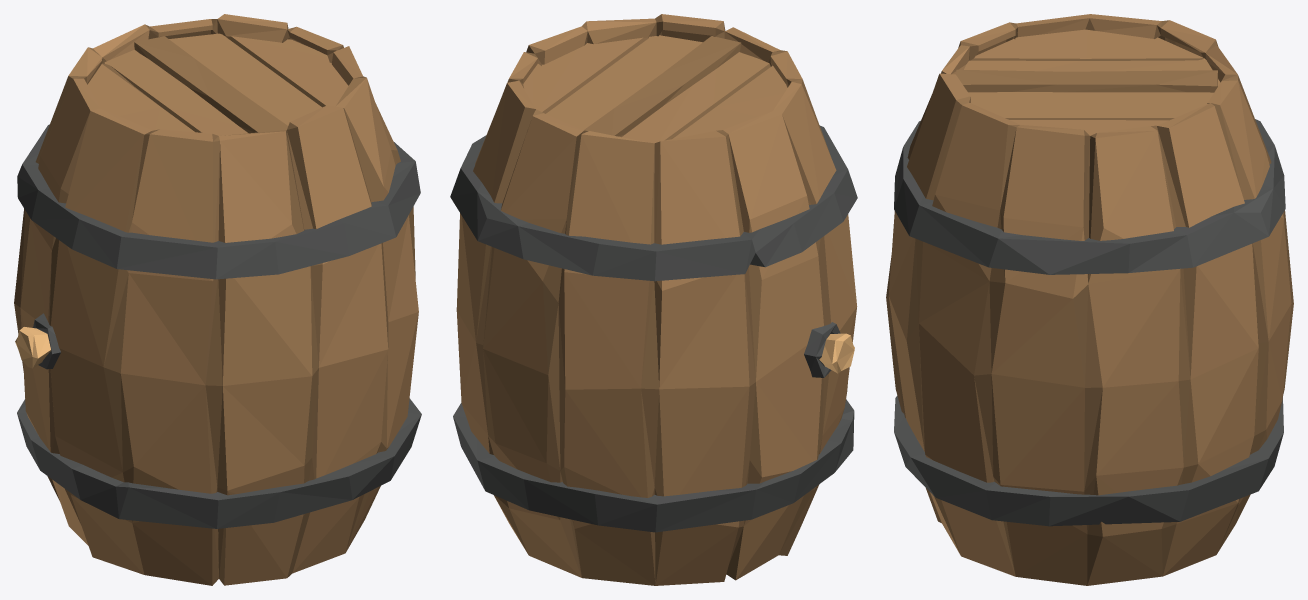
The model's file is SFM_TP_Beer_Barrel_001.fbx.
The picture shows the model from 3 angles, left to right: view 1: azimuth 30°, elevation 25°; view 2: azimuth 150°, elevation 25°; view 3: azimuth 270°, elevation 25°; orthographic projection.
Visible parts, largest first — view 1: SFM_TP_Beer_Barrel_001; view 2: SFM_TP_Beer_Barrel_001; view 3: SFM_TP_Beer_Barrel_001.
Boxes of the visible parts, left/top/right/bottom form: SFM_TP_Beer_Barrel_001: left=14, top=14, right=421, bottom=585; SFM_TP_Beer_Barrel_001: left=450, top=14, right=857, bottom=585; SFM_TP_Beer_Barrel_001: left=886, top=14, right=1293, bottom=585.
Size of the model in its own units: 61.96 by 72.59 by 58.91.
